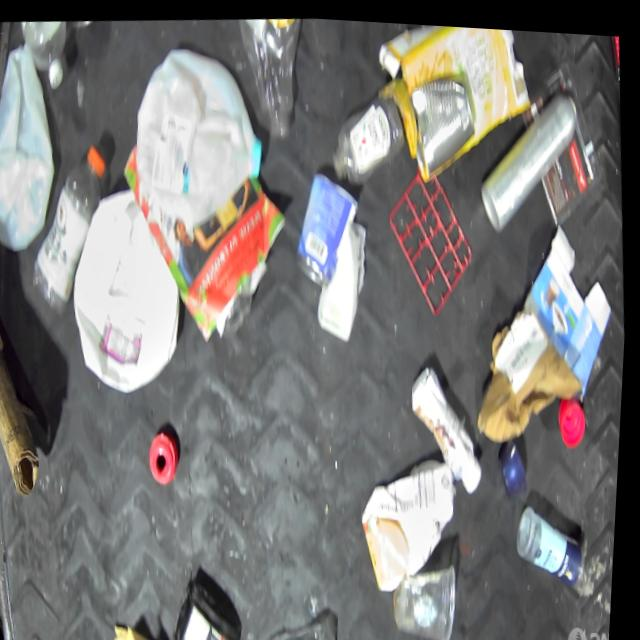can: (474, 79, 588, 231), (290, 163, 367, 288), (407, 68, 482, 172)
milk_jug: (127, 36, 273, 229), (65, 182, 194, 398), (0, 40, 67, 255)
non_white_jug: (361, 448, 467, 591)
plastic_bottle: (26, 139, 119, 320), (232, 12, 311, 141), (329, 81, 411, 184), (15, 18, 71, 93)
